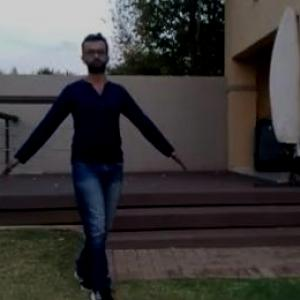land: (15, 47, 171, 285)
